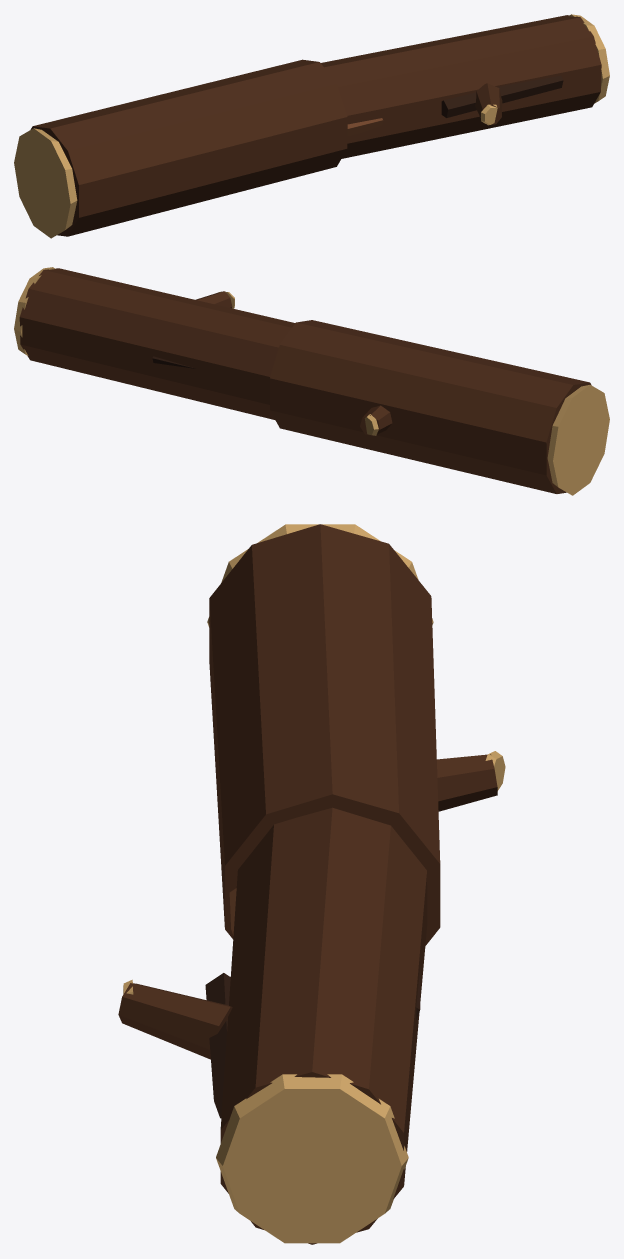
File: pickup_log.glb
The picture shows the model from 3 angles, top to bottom: view 1: azimuth 30°, elevation 25°; view 2: azimuth 150°, elevation 25°; view 3: azimuth 270°, elevation 25°; orthographic projection. The views are drawn at different scales.
Parts seen in each view (by area): view 1: Log_A, Log_B, Cut_L, Bark_Plate_5, Cut_R, Branch_Stub_3, Bark_Plate_6; view 2: Log_A, Log_B, Cut_L, Cut_R, Branch_Stub_1, Branch_Stub_3; view 3: Log_A, Log_B, Cut_R, Branch_Stub_3, Branch_Stub_1, Bark_Plate_5, Cut_L.
Part boxes in pixels (left/top/right/bottom): Log_A: left=30, top=59, right=347, bottom=236; Log_B: left=321, top=15, right=601, bottom=158; Cut_L: left=14, top=128, right=77, bottom=238; Bark_Plate_5: left=441, top=75, right=563, bottom=117; Cut_R: left=569, top=14, right=609, bottom=103; Branch_Stub_3: left=475, top=83, right=502, bottom=124; Bark_Plate_6: left=347, top=118, right=383, bottom=135; Log_A: left=270, top=320, right=591, bottom=493; Log_B: left=19, top=268, right=295, bottom=419; Cut_L: left=547, top=385, right=609, bottom=495; Cut_R: left=14, top=267, right=55, bottom=355; Branch_Stub_1: left=360, top=405, right=392, bottom=435; Branch_Stub_3: left=195, top=291, right=232, bottom=308; Log_A: left=209, top=524, right=440, bottom=945; Log_B: left=220, top=807, right=427, bottom=1244; Cut_R: left=216, top=1074, right=408, bottom=1243; Branch_Stub_3: left=118, top=983, right=232, bottom=1059; Branch_Stub_1: left=437, top=754, right=497, bottom=811; Bark_Plate_5: left=205, top=973, right=230, bottom=1118; Cut_L: left=207, top=524, right=433, bottom=627.
Bounding box in the file's own units: 1.24 × 0.23 × 0.3814.
